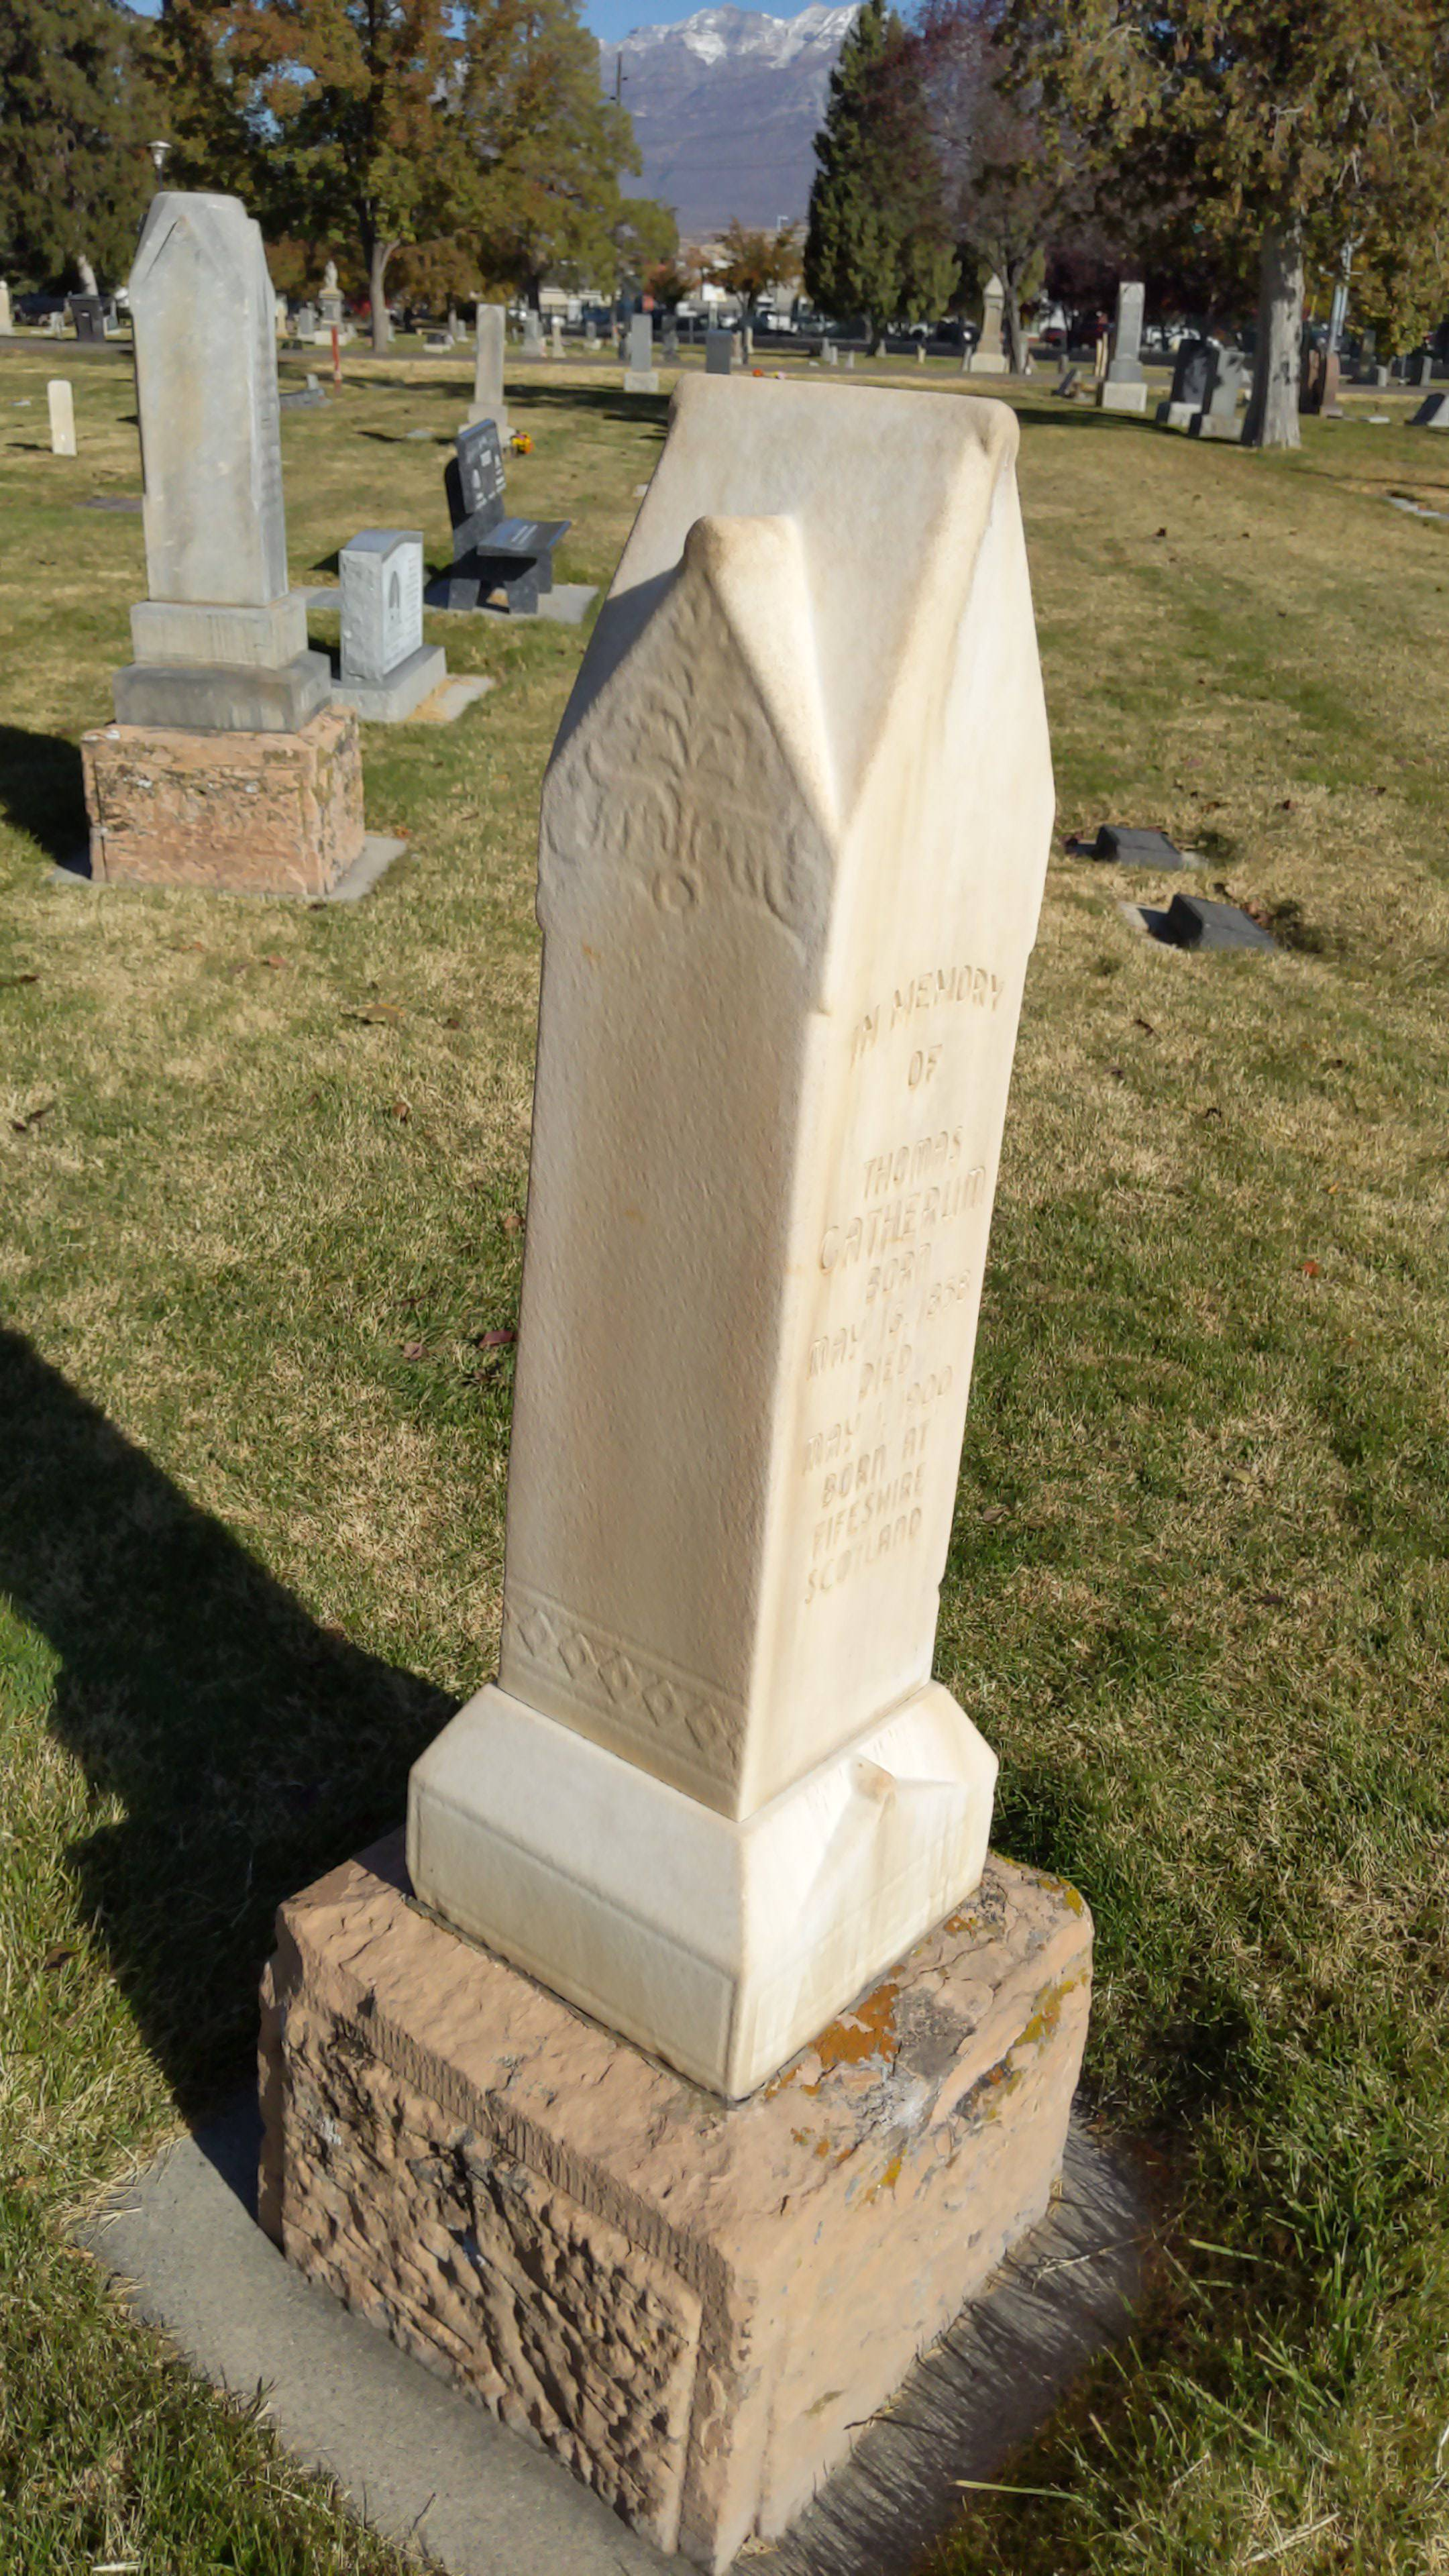obelisk: (418, 368, 994, 2095)
